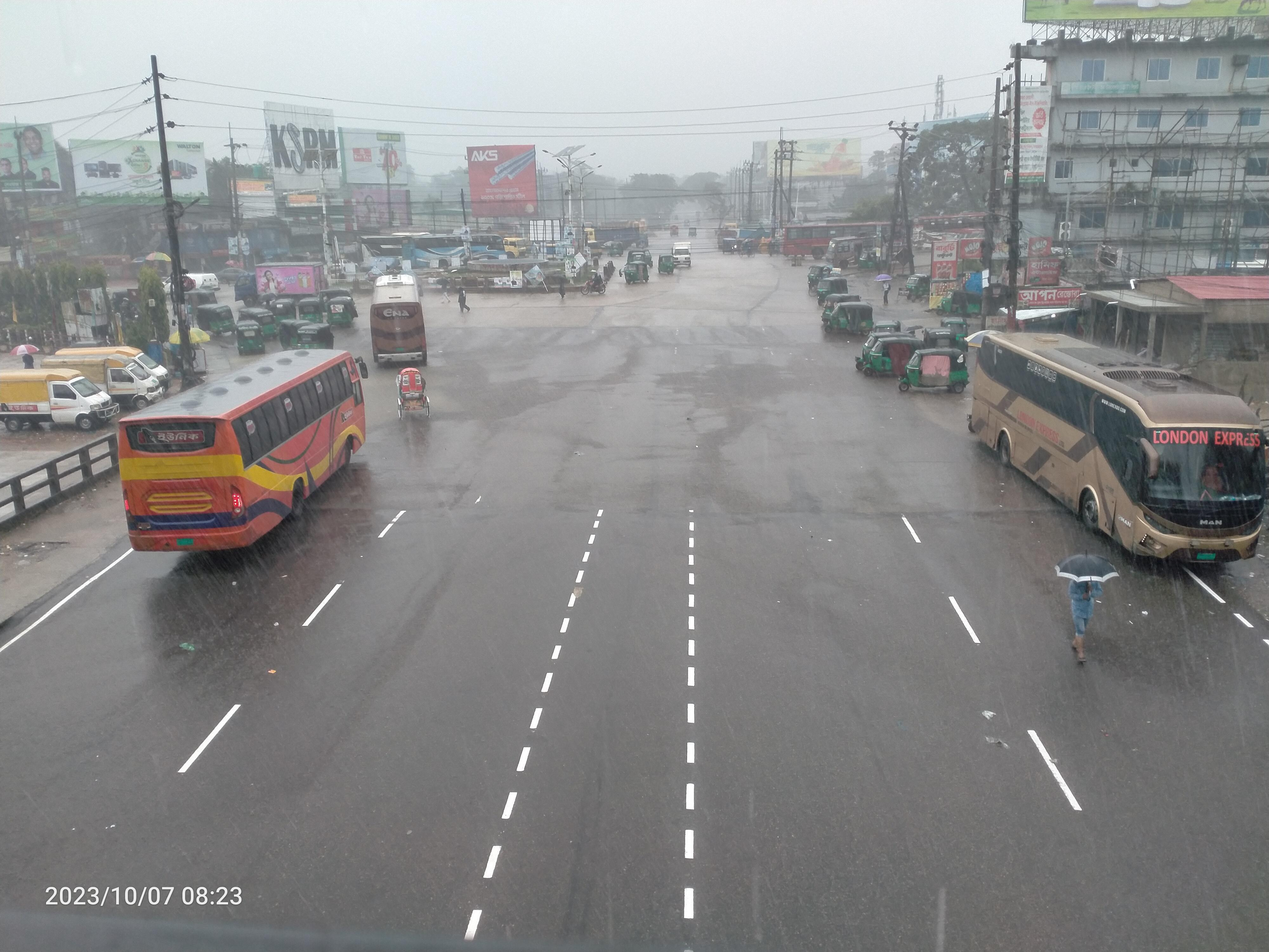Bus: (956, 309, 1269, 604), (107, 337, 380, 586), (353, 252, 458, 376), (775, 219, 905, 260), (406, 228, 514, 276), (906, 204, 1005, 252)
Car: (0, 363, 121, 438), (96, 335, 171, 409), (383, 356, 450, 438), (143, 261, 234, 307), (666, 238, 707, 271)
